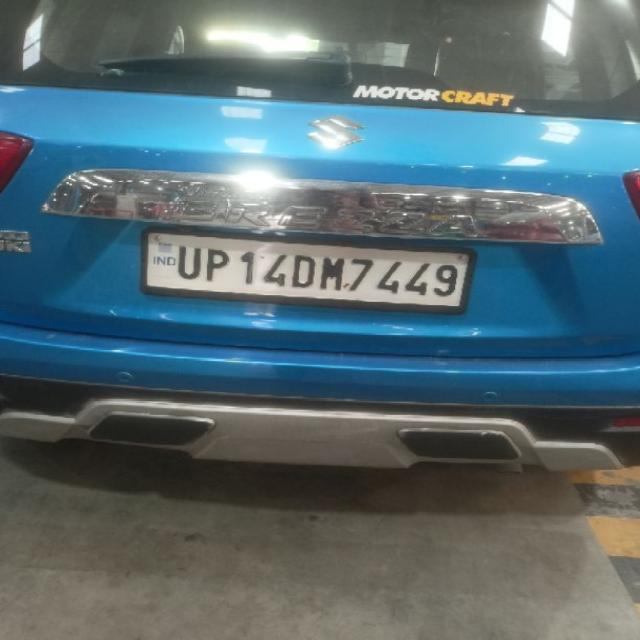license_plate: (139, 226, 477, 314)
